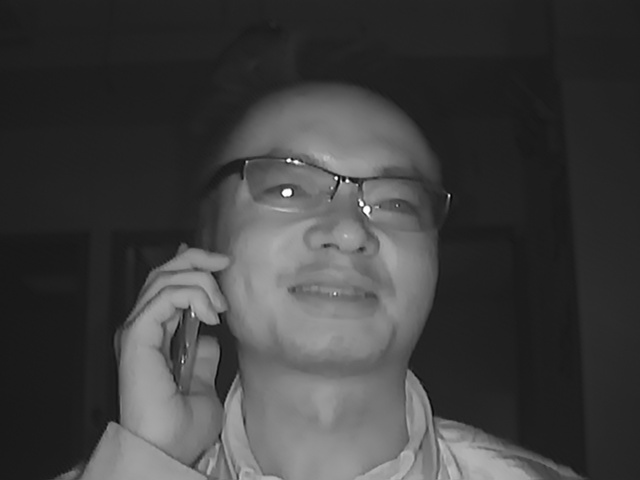hand: (120, 247, 236, 451)
